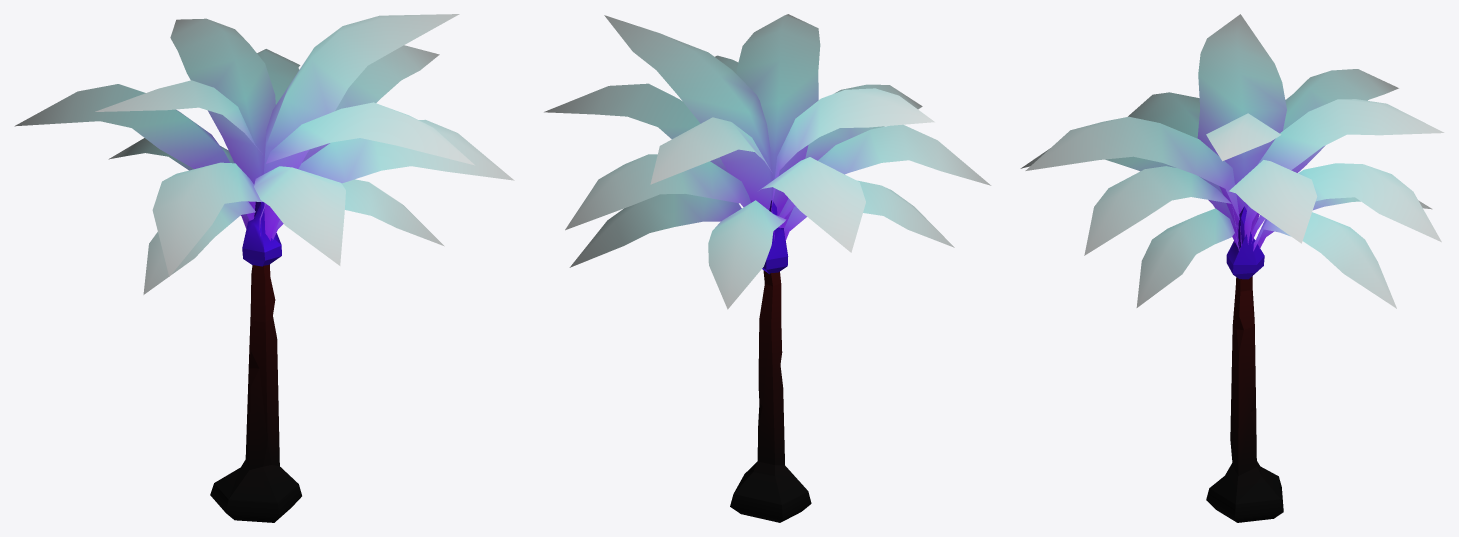
The model's file is SM_Env_Tree_Banana_04.gltf.
The picture shows the model from 3 angles, left to right: view 1: azimuth 30°, elevation 25°; view 2: azimuth 150°, elevation 25°; view 3: azimuth 270°, elevation 25°; orthographic projection. The views are drawn at different scales.
Visible parts, largest first — view 1: SM_Env_Tree_Banana_01_Leaves_LOD0, SM_Env_Tree_Banana_01_LOD0; view 2: SM_Env_Tree_Banana_01_Leaves_LOD0, SM_Env_Tree_Banana_01_LOD0; view 3: SM_Env_Tree_Banana_01_Leaves_LOD0, SM_Env_Tree_Banana_01_LOD0.
Boxes of the visible parts, <box> form: SM_Env_Tree_Banana_01_Leaves_LOD0: <box>14,14,514,294</box>; SM_Env_Tree_Banana_01_LOD0: <box>210,264,301,522</box>; SM_Env_Tree_Banana_01_Leaves_LOD0: <box>544,14,991,309</box>; SM_Env_Tree_Banana_01_LOD0: <box>730,270,811,522</box>; SM_Env_Tree_Banana_01_Leaves_LOD0: <box>1020,14,1444,308</box>; SM_Env_Tree_Banana_01_LOD0: <box>1206,276,1283,522</box>.
Bounding box in the file's own units: 4.94 × 5.87 × 5.08.
